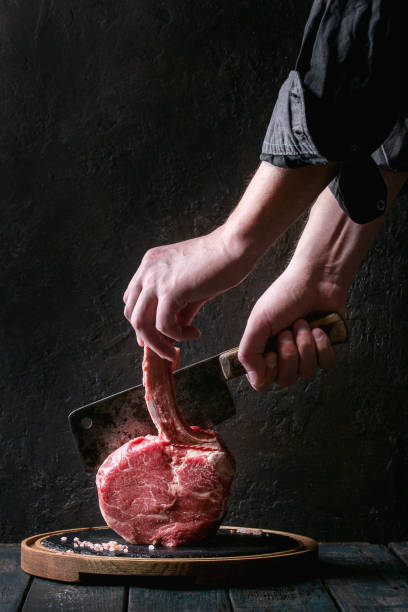knife: (65, 306, 354, 477)
